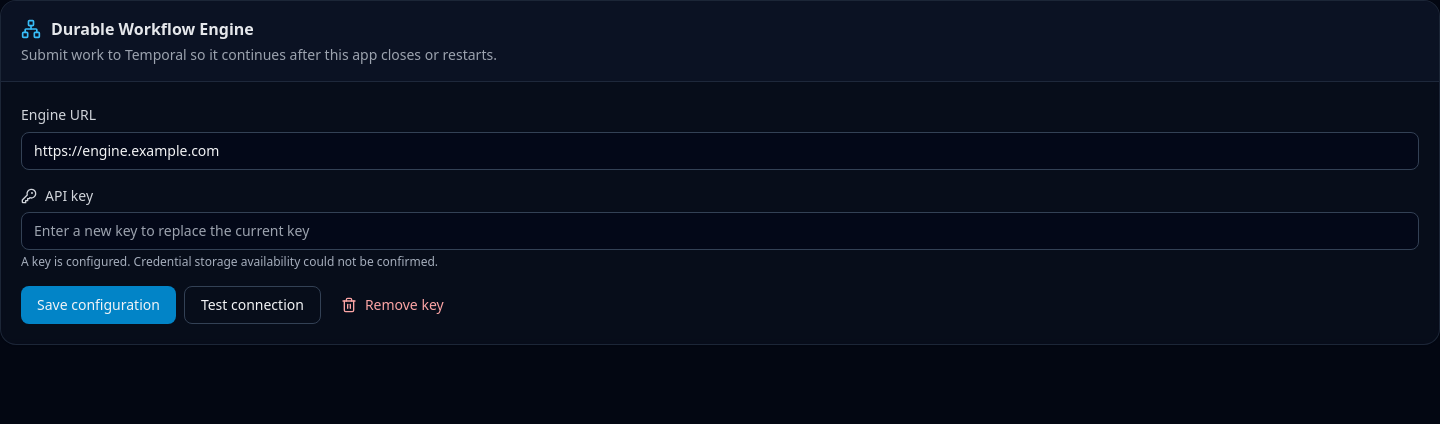
DurableWorkflowSettings › tests the connection when a key and tenant exist
Click the button "Test connection". click: (252, 305)
box: [184,286,321,324]
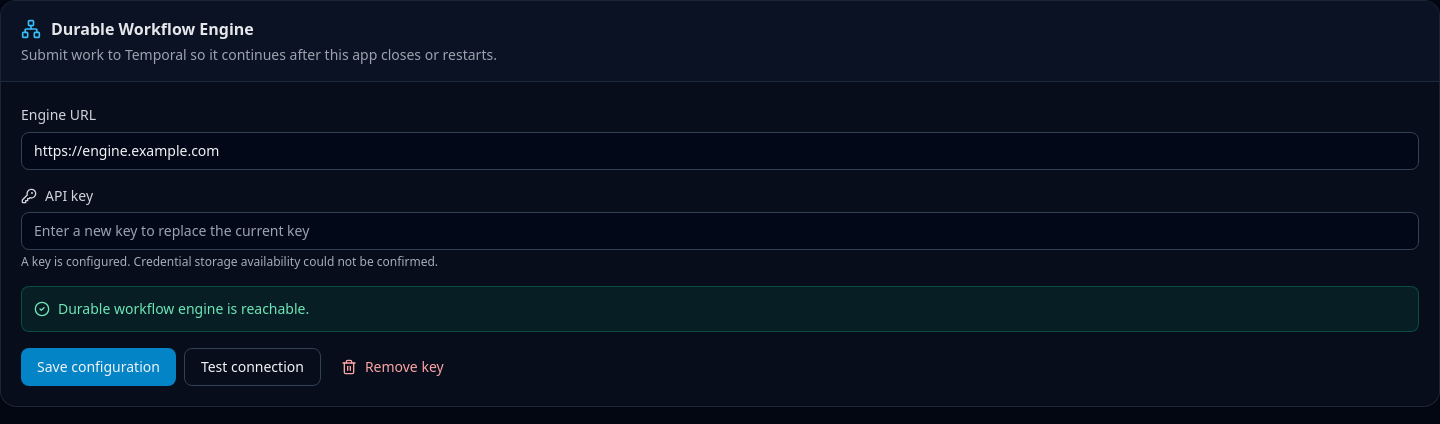
expect the text "Durable workflow engine is reachable." is shown: met, box [21,286,1419,332]
